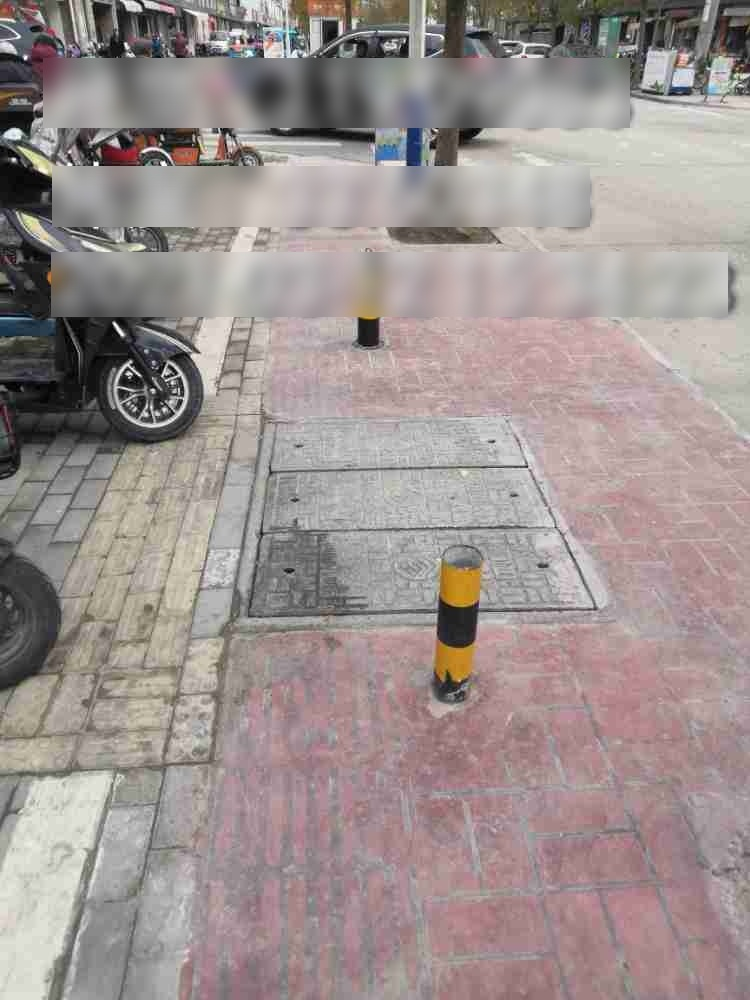well: (233, 413, 613, 627)
